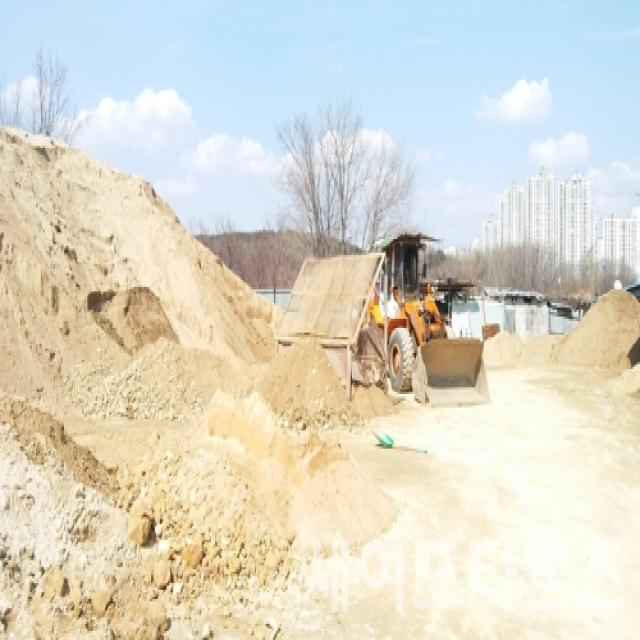white-sand: (0, 128, 385, 638), (284, 367, 639, 638), (484, 289, 639, 371)
